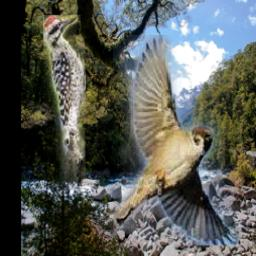Sparrow: (114, 36, 240, 246)
Woodpecker: (43, 16, 86, 190)
